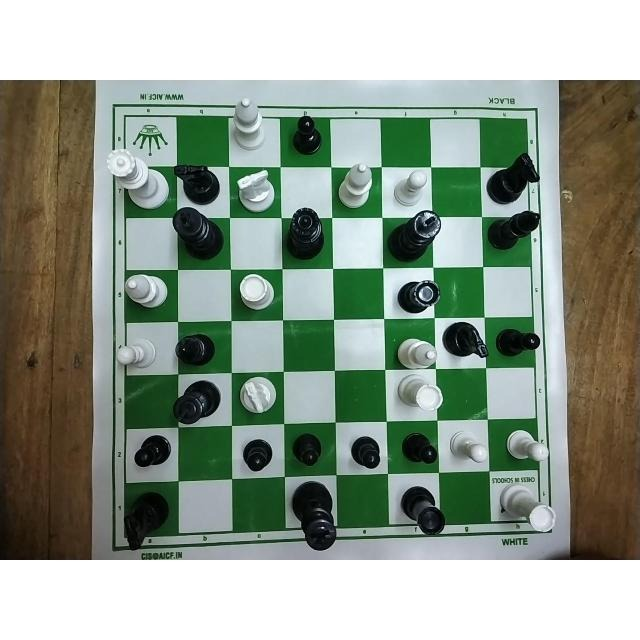black-bishop: (487, 208, 542, 252), (170, 333, 218, 365)
black-king: (291, 480, 338, 551), (172, 207, 224, 261), (386, 210, 440, 261), (172, 381, 220, 423)
black-knight: (123, 491, 173, 549), (485, 151, 539, 203), (170, 162, 219, 204), (441, 320, 489, 362)
black-pawn: (495, 327, 540, 359), (398, 431, 438, 466), (291, 115, 324, 154), (133, 434, 173, 466), (349, 436, 383, 470), (241, 436, 273, 472), (291, 432, 323, 465)
black-queen: (284, 206, 325, 261)
black-rook: (398, 486, 444, 536), (394, 279, 439, 313)
white-bishop: (230, 95, 269, 149), (124, 270, 168, 310), (335, 163, 373, 209), (394, 335, 438, 369)
white-knight: (234, 168, 278, 215), (238, 375, 276, 415)
white-pawn: (502, 426, 549, 464), (112, 338, 158, 370), (446, 430, 488, 464), (392, 169, 426, 207)
white-queen: (106, 148, 170, 211)
white-rook: (497, 482, 554, 533), (394, 374, 446, 414), (238, 274, 276, 310)
